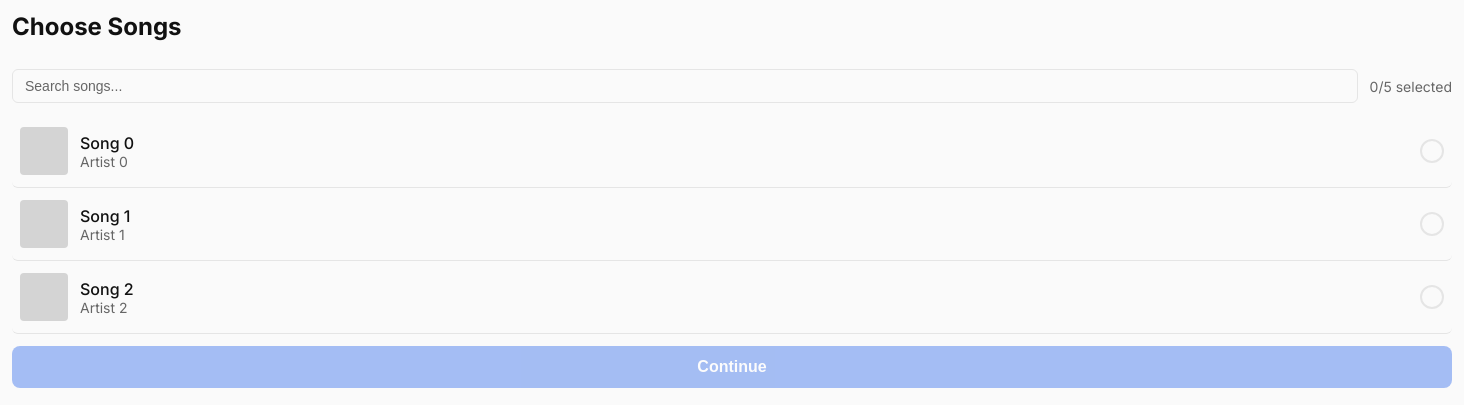
Test: CreatePage › continue button is enabled with 3+ selections
Expected: the text "Song 0" is shown, [80,132,134,152]
Click the text "Song 0" at (732, 152), box [12,115,1452,188]
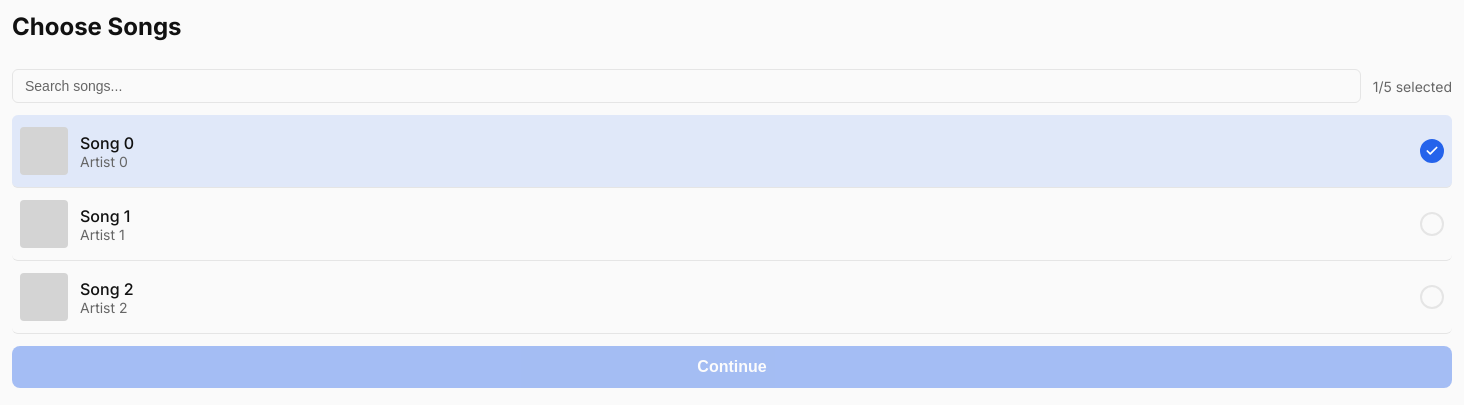
Click the text "Song 1" at (732, 224), box [12,188,1452,261]
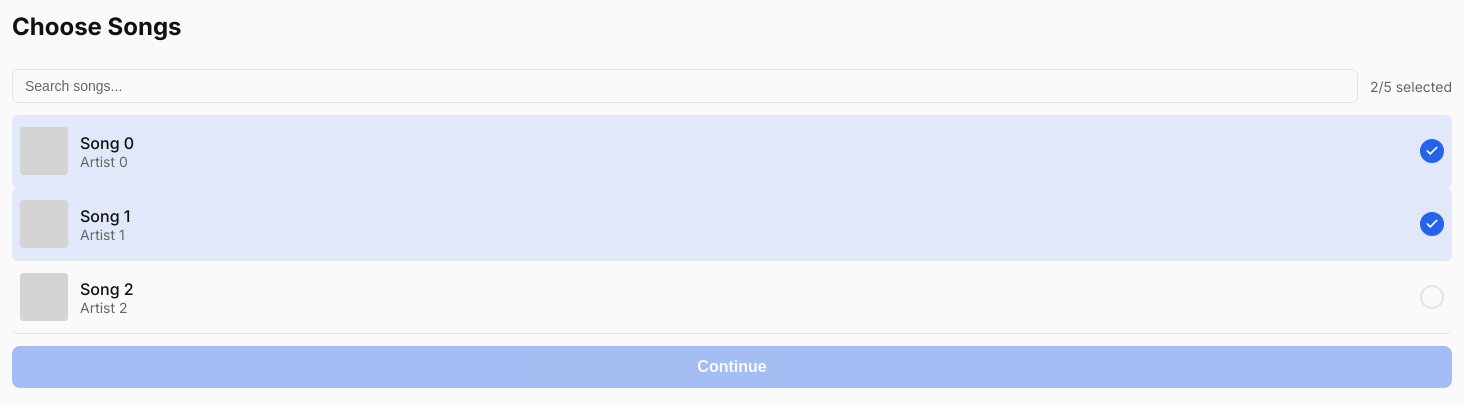
Click the element showing "Song 2 Artist 2" at (732, 298), box [12,261,1452,334]
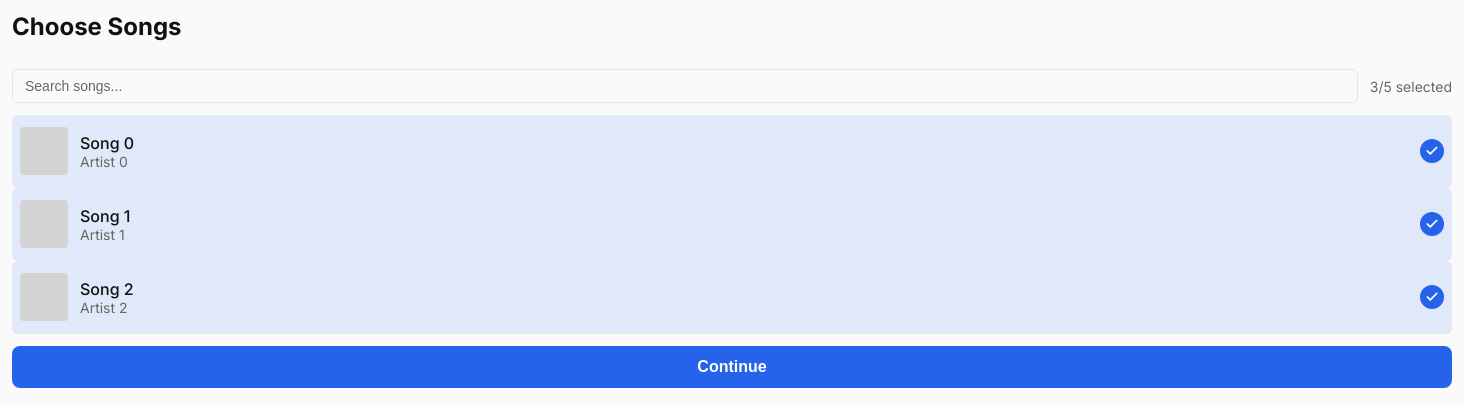
Result: the button "Continue" is enabled at [12,346,1452,388]
